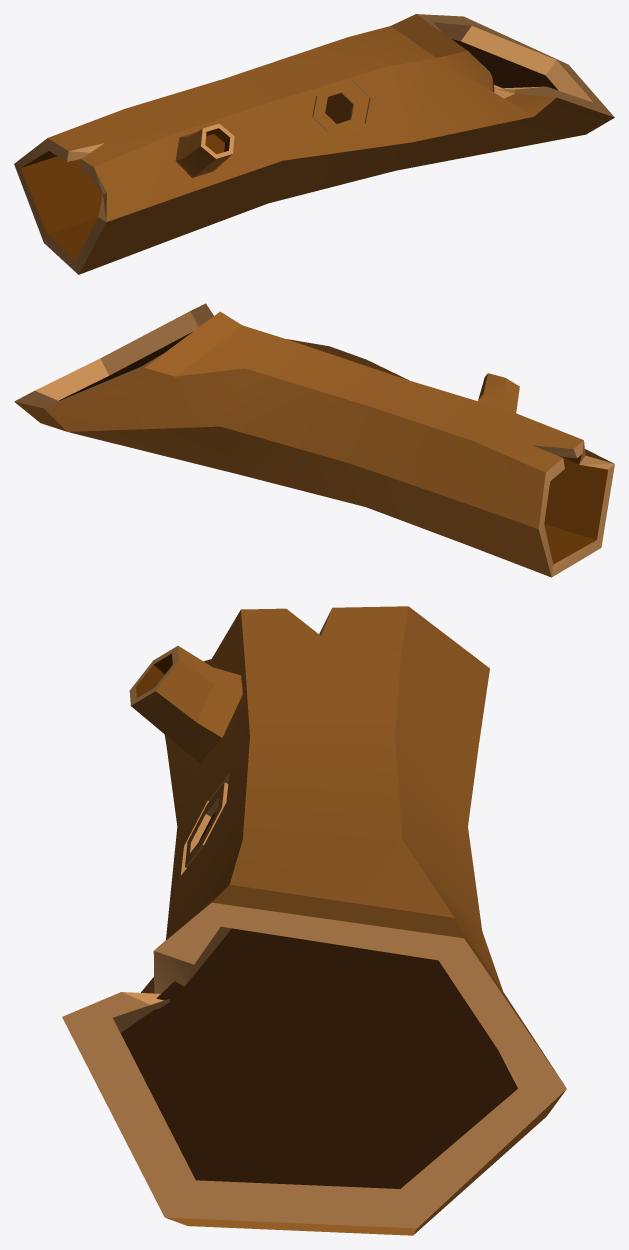
File: Baumstamm.FBX
The picture shows the model from 3 angles, top to bottom: view 1: azimuth 30°, elevation 25°; view 2: azimuth 150°, elevation 25°; view 3: azimuth 270°, elevation 25°; orthographic projection. The views are drawn at different scales.
Parts seen in each view (by area): view 1: Tree_Log_01; view 2: Tree_Log_01; view 3: Tree_Log_01.
Boxes of the visible parts, x1,y1,x2,y2 form: Tree_Log_01: (14, 14, 614, 274); Tree_Log_01: (14, 303, 614, 577); Tree_Log_01: (62, 606, 566, 1235).
Bounding box in the file's own units: 206 × 49.95 × 84.13.
